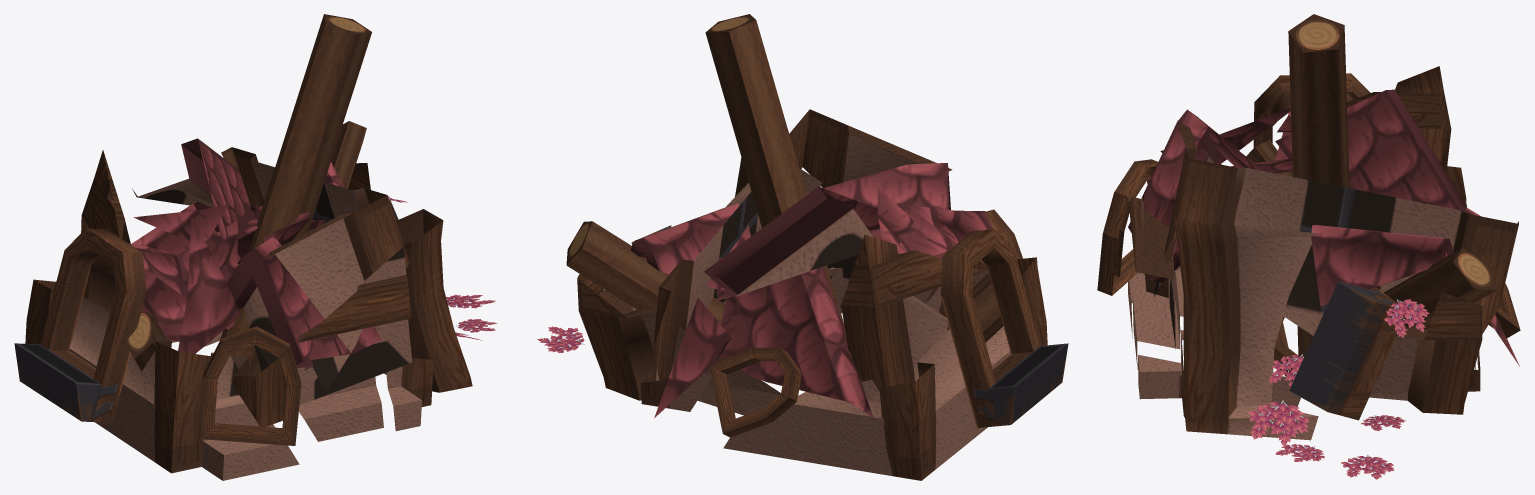
Rendered from House10Pile.fbx.
3 renders of one model, left to right at view 1: azimuth 30°, elevation 25°; view 2: azimuth 150°, elevation 25°; view 3: azimuth 270°, elevation 25°, orthographic. The views are drawn at different scales.
Parts seen in each view (by area): view 1: Pile4; view 2: Pile4; view 3: Pile4.
Part boxes in pixels (bbox=[...]): Pile4: bbox=[14, 14, 497, 480]; Pile4: bbox=[537, 14, 1068, 480]; Pile4: bbox=[1097, 14, 1520, 479].
Bounding box in the file's own units: 34.88 × 26.64 × 24.94.
